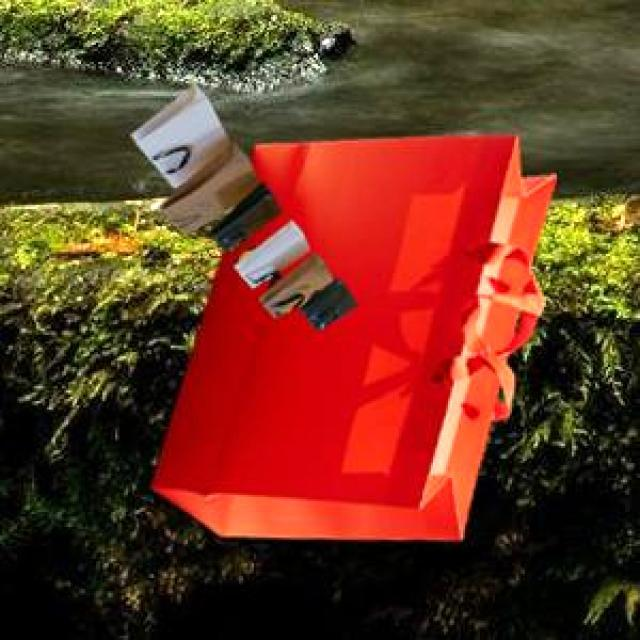Paper_Bag: (148, 131, 554, 537), (129, 82, 353, 328)
